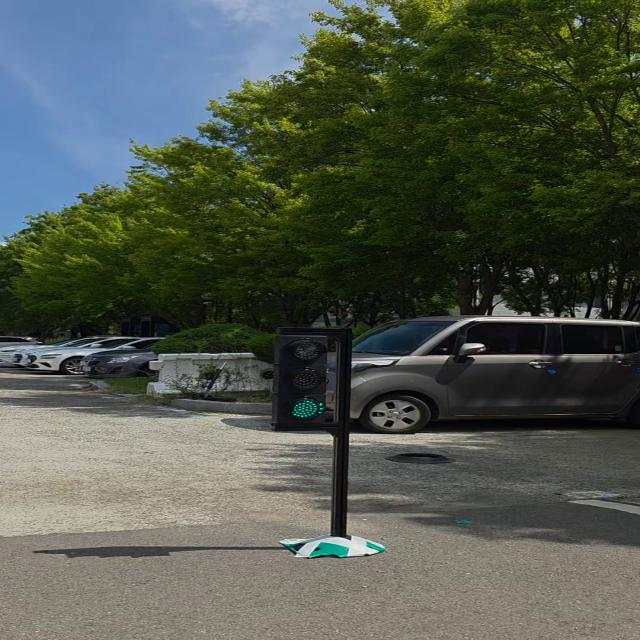green: (278, 330, 330, 425)
